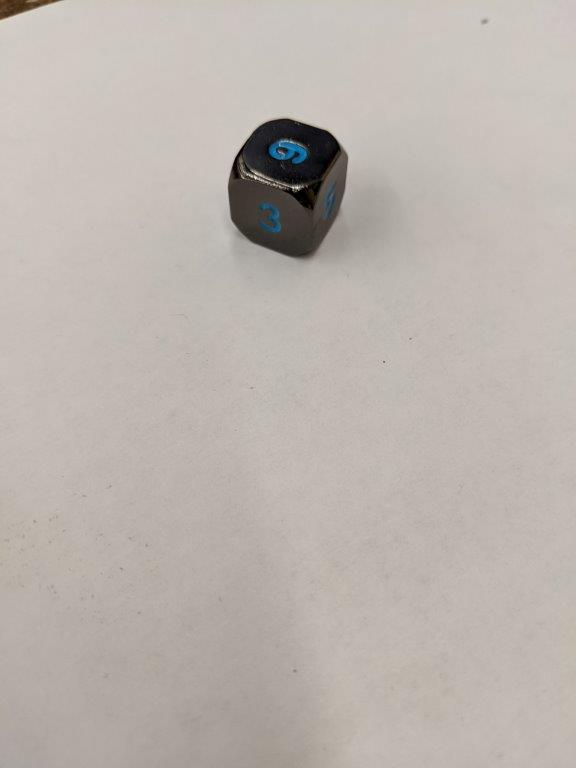d6-6: (229, 120, 351, 259)
